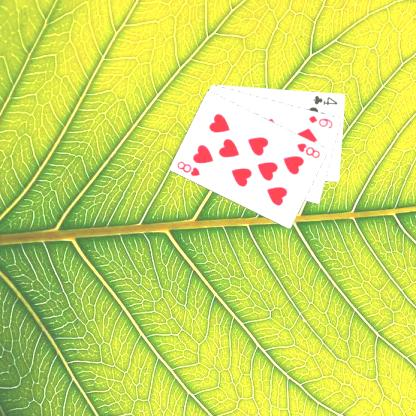4C: (310, 93, 340, 106)
6D: (306, 113, 335, 130)
8H: (294, 140, 322, 160), (174, 158, 202, 178)
